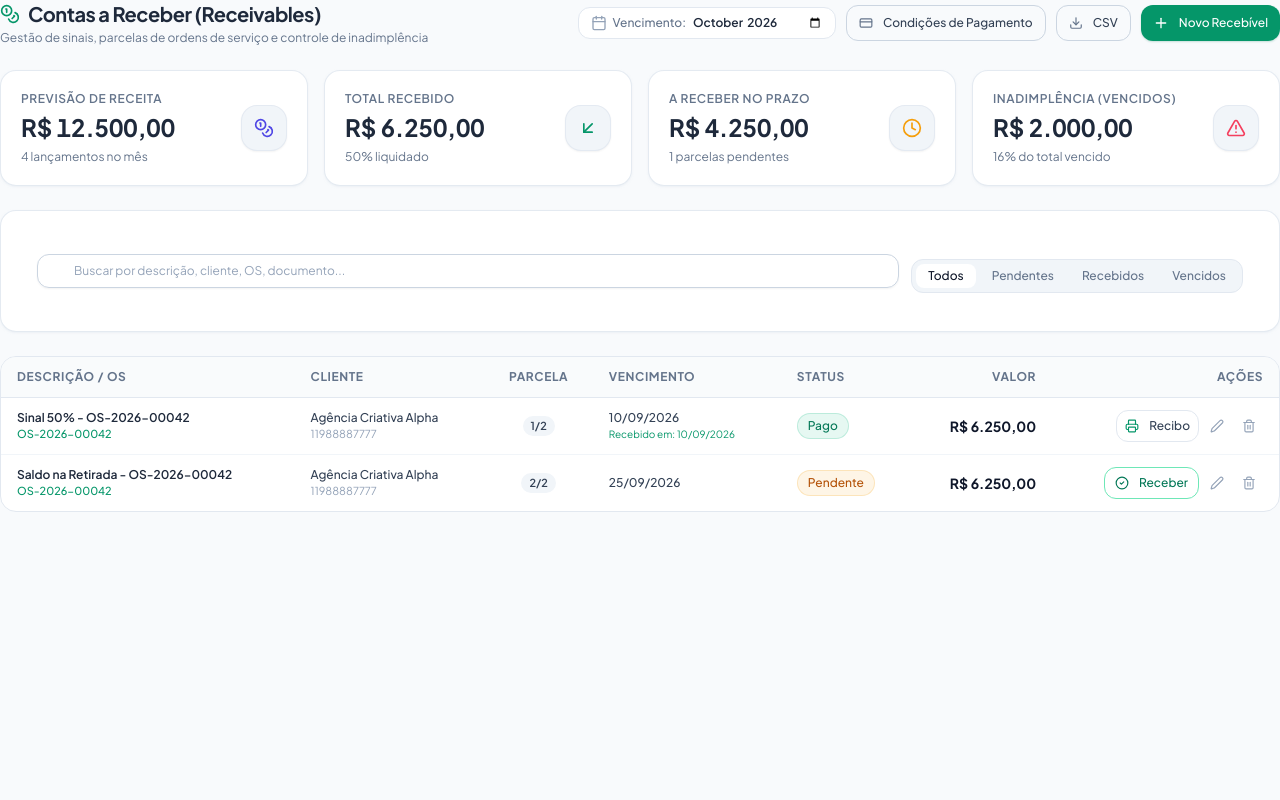
ReceivablesPage › opens payment modal when clicking on "Receber"
Check: the text "Saldo na Retirada - OS-2026-00042" is shown, box [17,467,232,482]
Click the button "Receber" at coordinates (1152, 483), box [1104,467,1199,499]
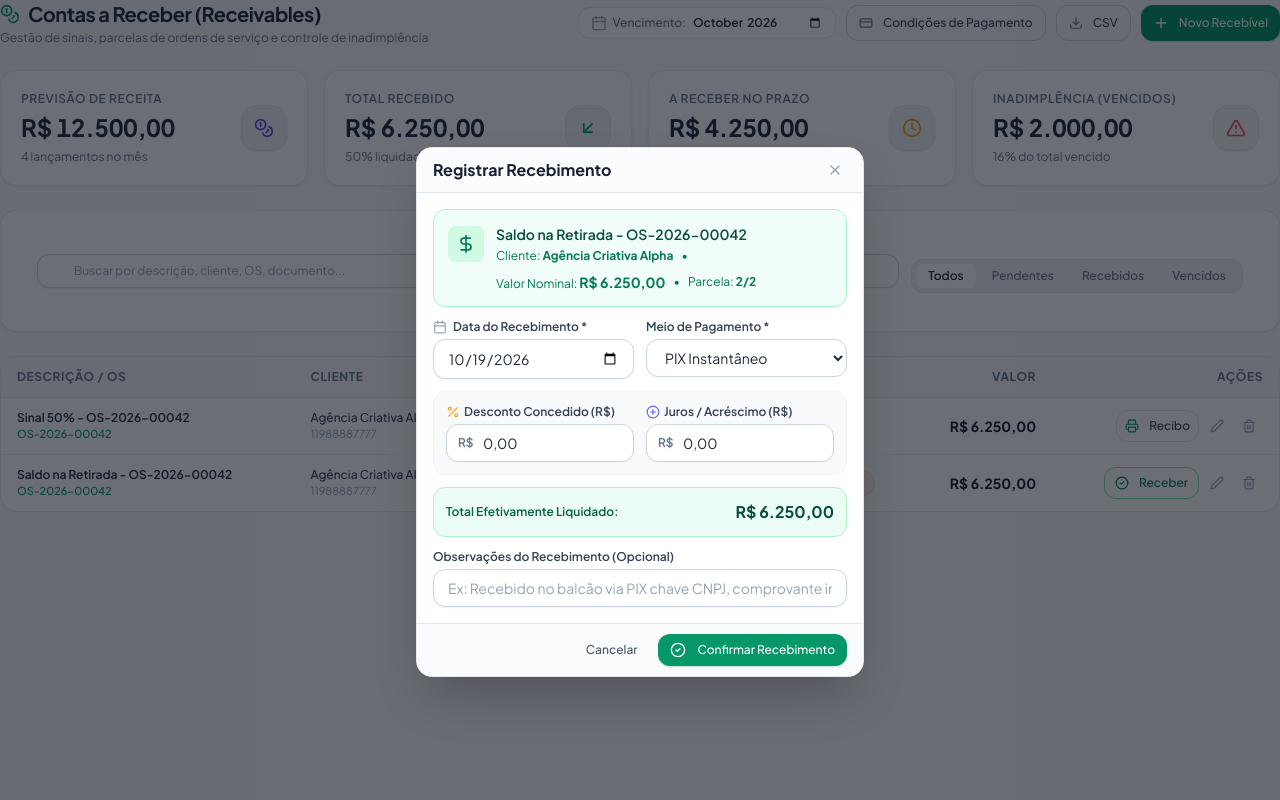
Check: the heading "Registrar Recebimento" is shown, box [433,158,612,182]
Check: the button "Confirmar Recebimento" is shown, box [658,634,847,666]
